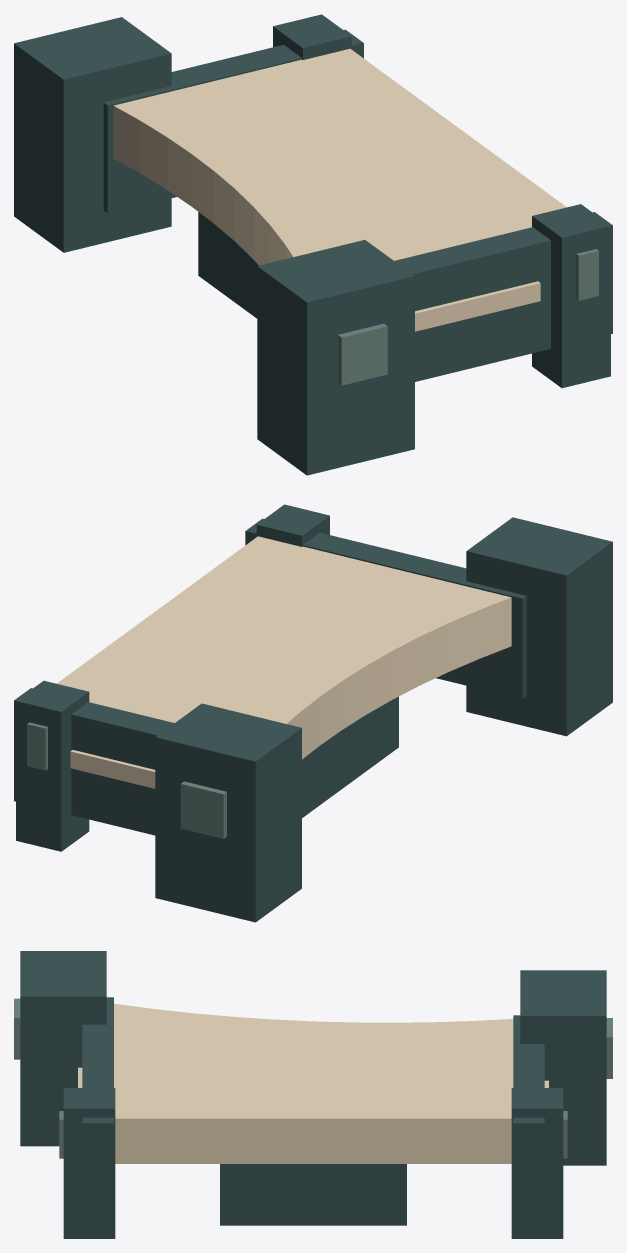
The model's file is Pier_Angled_05.glb.
3 views of the same model, one above another, from view 1: azimuth 30°, elevation 25°; view 2: azimuth 150°, elevation 25°; view 3: azimuth 270°, elevation 25° (orthographic). The views are drawn at different scales.
Parts seen in each view (by area): view 1: Pier_Angled_05; view 2: Pier_Angled_05; view 3: Pier_Angled_05.
Part boxes in pixels (box(x1,y1,x2,y2)): Pier_Angled_05: box(14, 14, 612, 475); Pier_Angled_05: box(14, 504, 612, 922); Pier_Angled_05: box(14, 951, 612, 1238).
Bounding box in the file's own units: 2.38 × 1.15 × 4.17.
